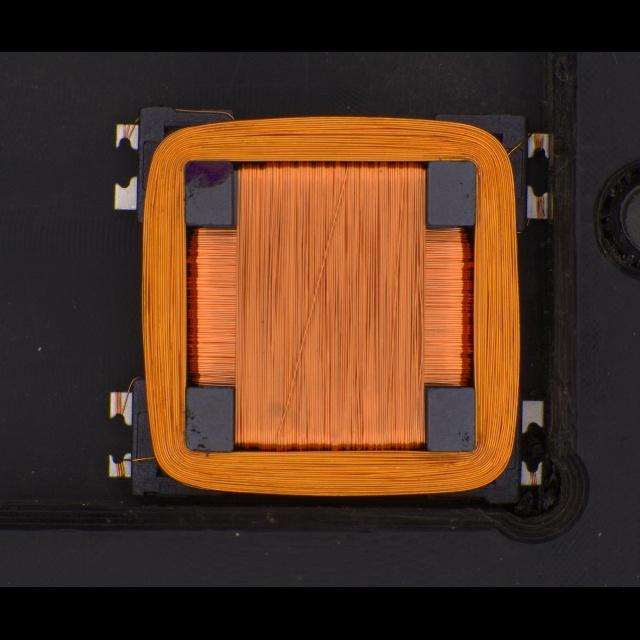Winding_Z: (126, 109, 527, 500)
